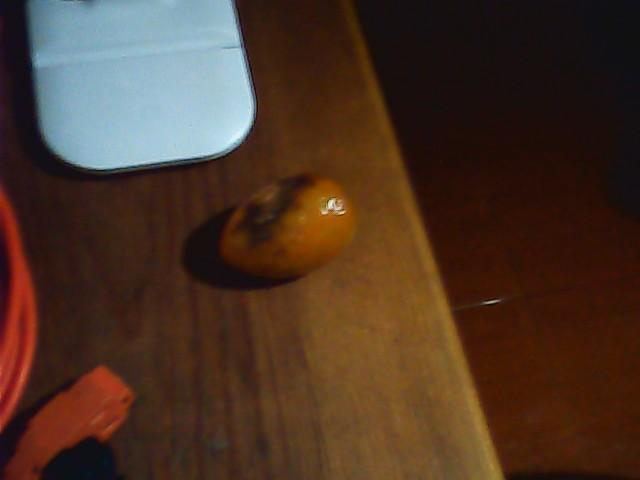defectuoso: (213, 170, 359, 284)
